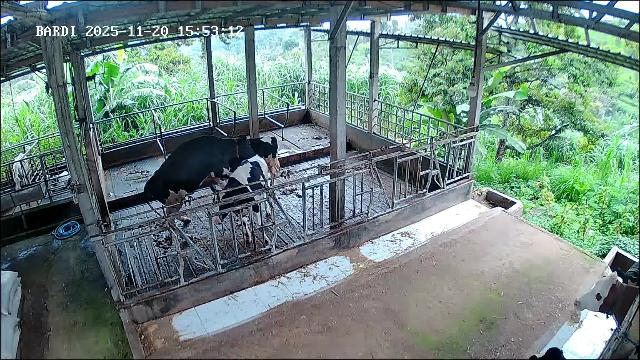mounting: (140, 131, 254, 242)
